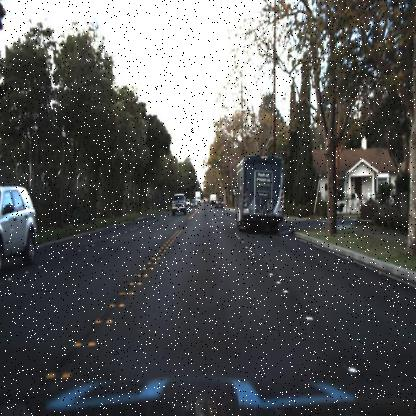car: (0, 180, 40, 274), (167, 186, 188, 222), (170, 194, 188, 216), (212, 192, 228, 212), (189, 196, 199, 211)
truck: (233, 150, 285, 231)
